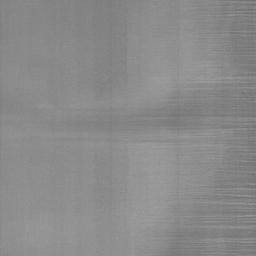Waist folding: (142, 182, 256, 256), (57, 116, 256, 145), (193, 0, 256, 38), (172, 70, 256, 93), (39, 107, 164, 110), (219, 162, 256, 168), (226, 145, 256, 150)
